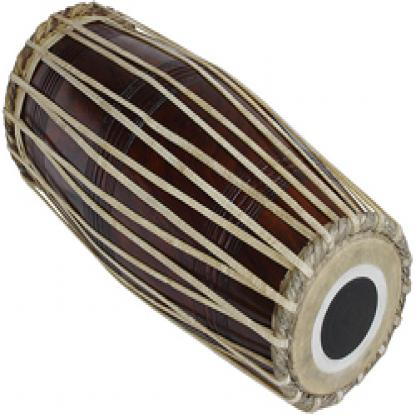Mridangam: (3, 1, 415, 415)
